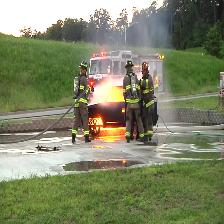fire: (95, 84, 125, 103), (96, 127, 128, 140)
